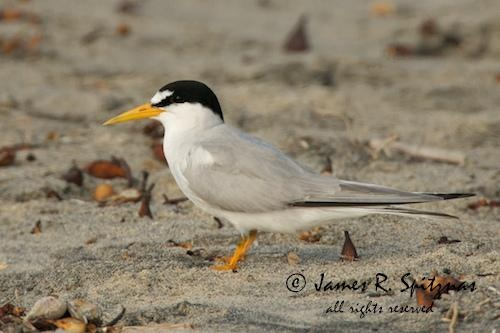bird: (100, 72, 468, 273)
